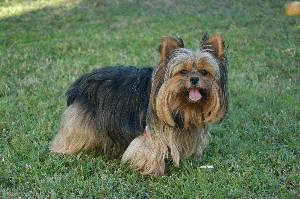dog: (159, 33, 221, 110)
